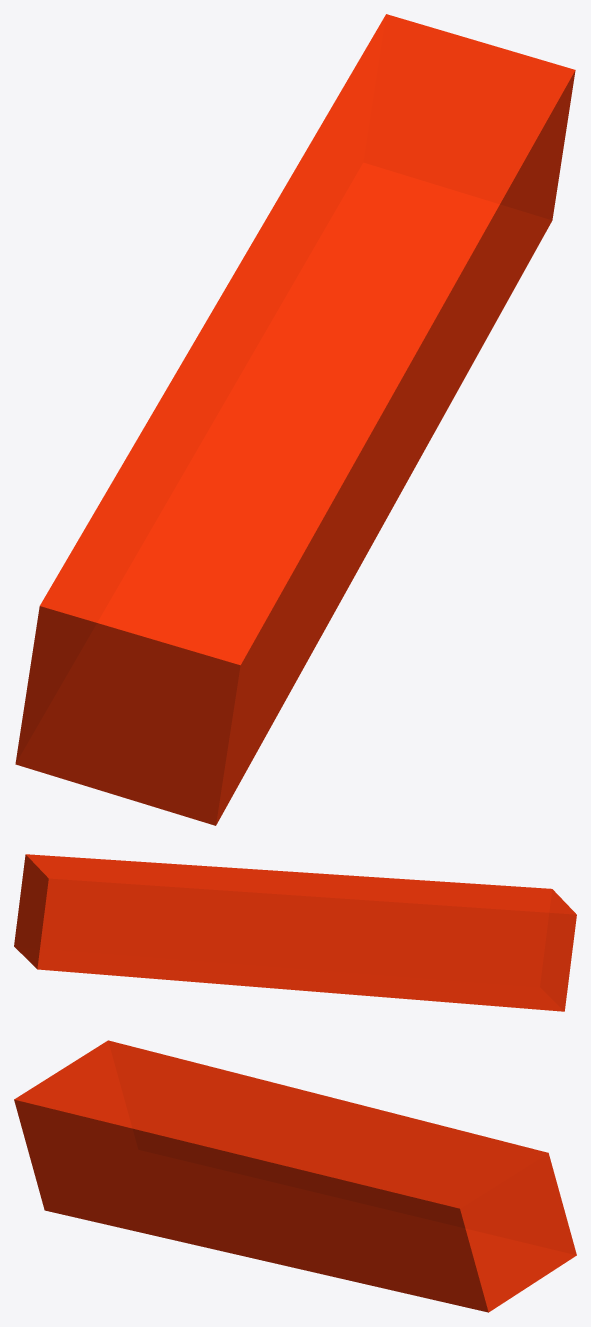
File: Event_421127236_EBrechit_21.fbx
The picture shows the model from 3 angles, top to bottom: view 1: azimuth 30°, elevation 25°; view 2: azimuth 150°, elevation 25°; view 3: azimuth 270°, elevation 25°; orthographic projection. The views are drawn at different scales.
Parts seen in each view (by area): view 1: Model; view 2: Model; view 3: Model.
Part boxes in pixels (x1,y1,x2,y2): Model: (15,14,575,825); Model: (14,854,576,1011); Model: (14,1040,576,1312).
Size of the model in its own units: 0.2785 by 0.1215 by 0.267.
